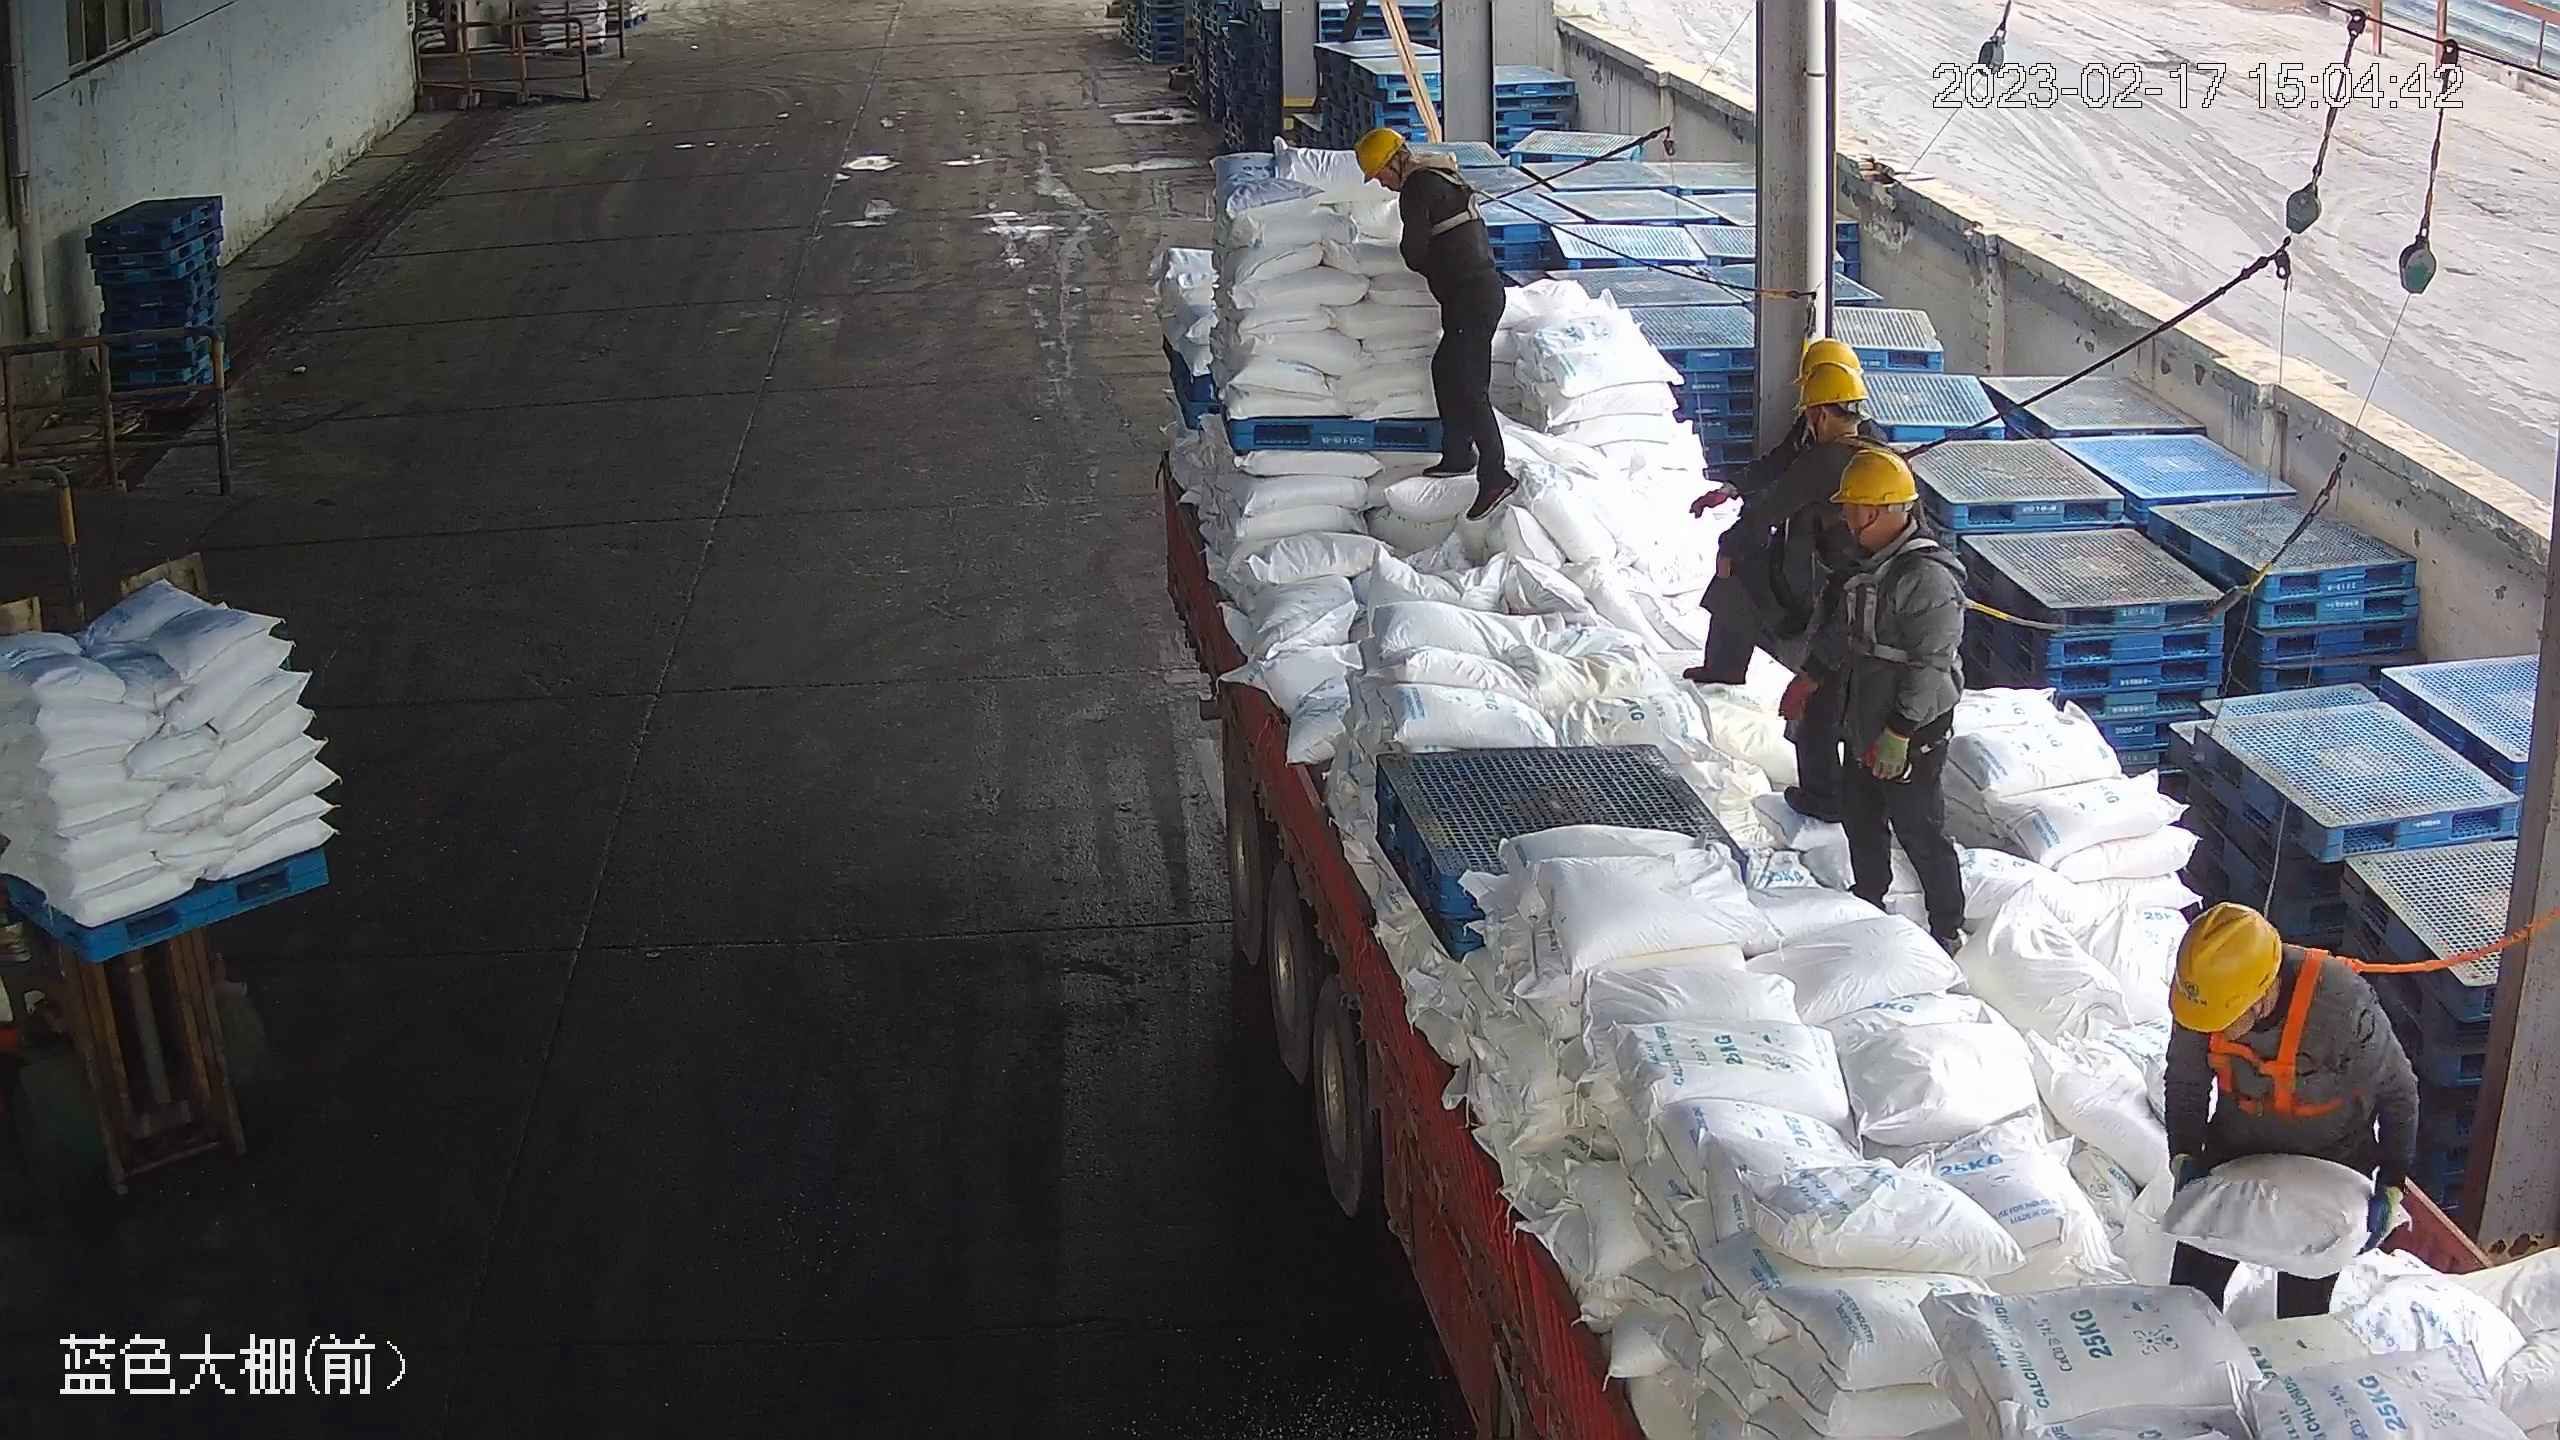belt: (2209, 944, 2373, 1126), (1839, 533, 1993, 668), (1411, 158, 1497, 243)
head: (2164, 899, 2376, 1068), (1824, 446, 1961, 604), (1750, 341, 1880, 477), (1355, 125, 1476, 231)
helmet: (2166, 899, 2285, 1030), (1828, 443, 1919, 509), (1790, 338, 1869, 383), (1353, 125, 1406, 184), (1792, 360, 1865, 401)
people: (2161, 895, 2410, 1321), (1784, 446, 1976, 957), (1677, 329, 1880, 716), (1354, 124, 1525, 527)
truck: (1075, 337, 2560, 1440)
